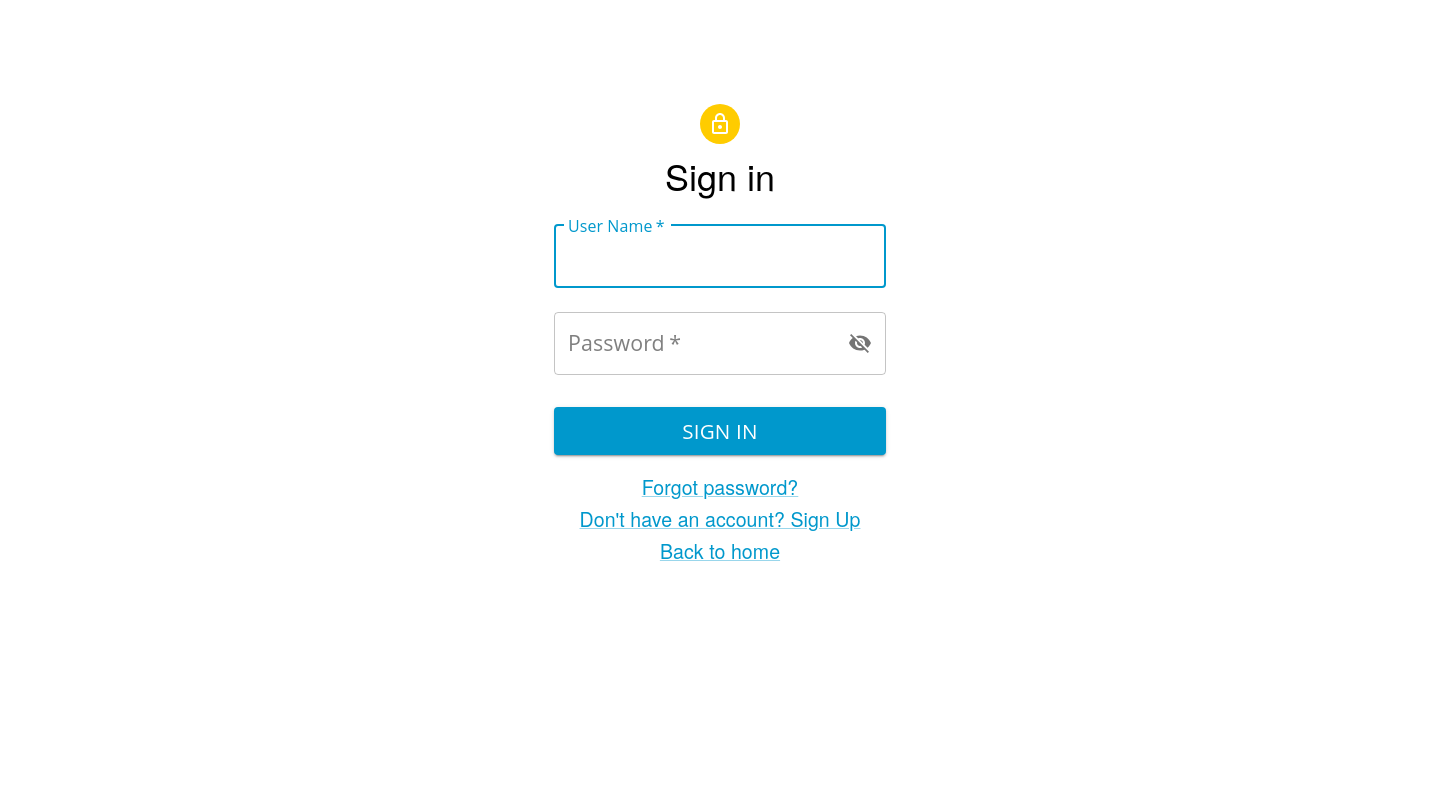
Test case: customer flow: login › logs in with valid credentials and lands on the profile edit page
Type "ada" into the field labelled "User Name *".
click(720, 256); type("ada")  # box [554,224,886,288]
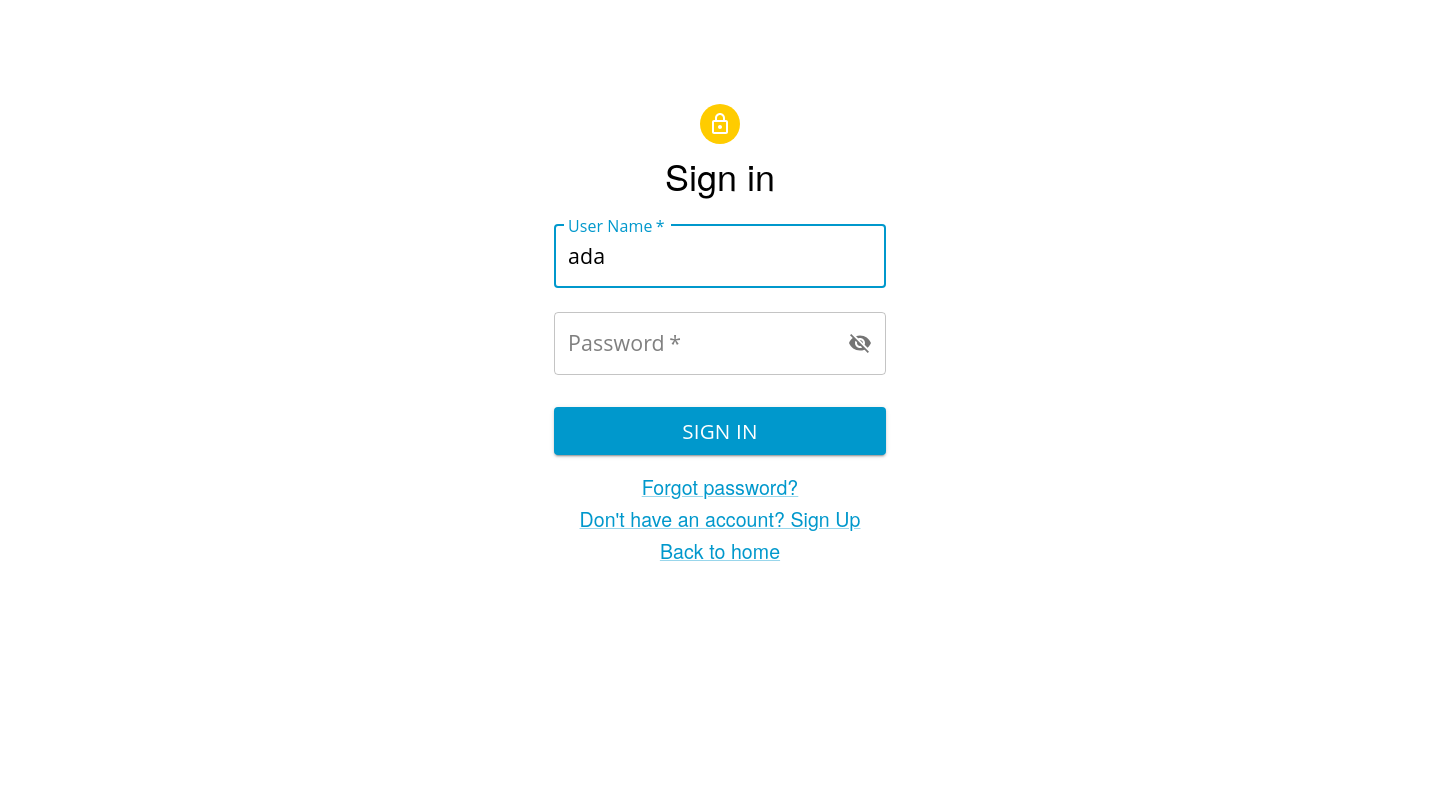
Type "password123" into the password field labelled "Password *".
click(691, 344); type("password123")  # box [554,312,828,375]
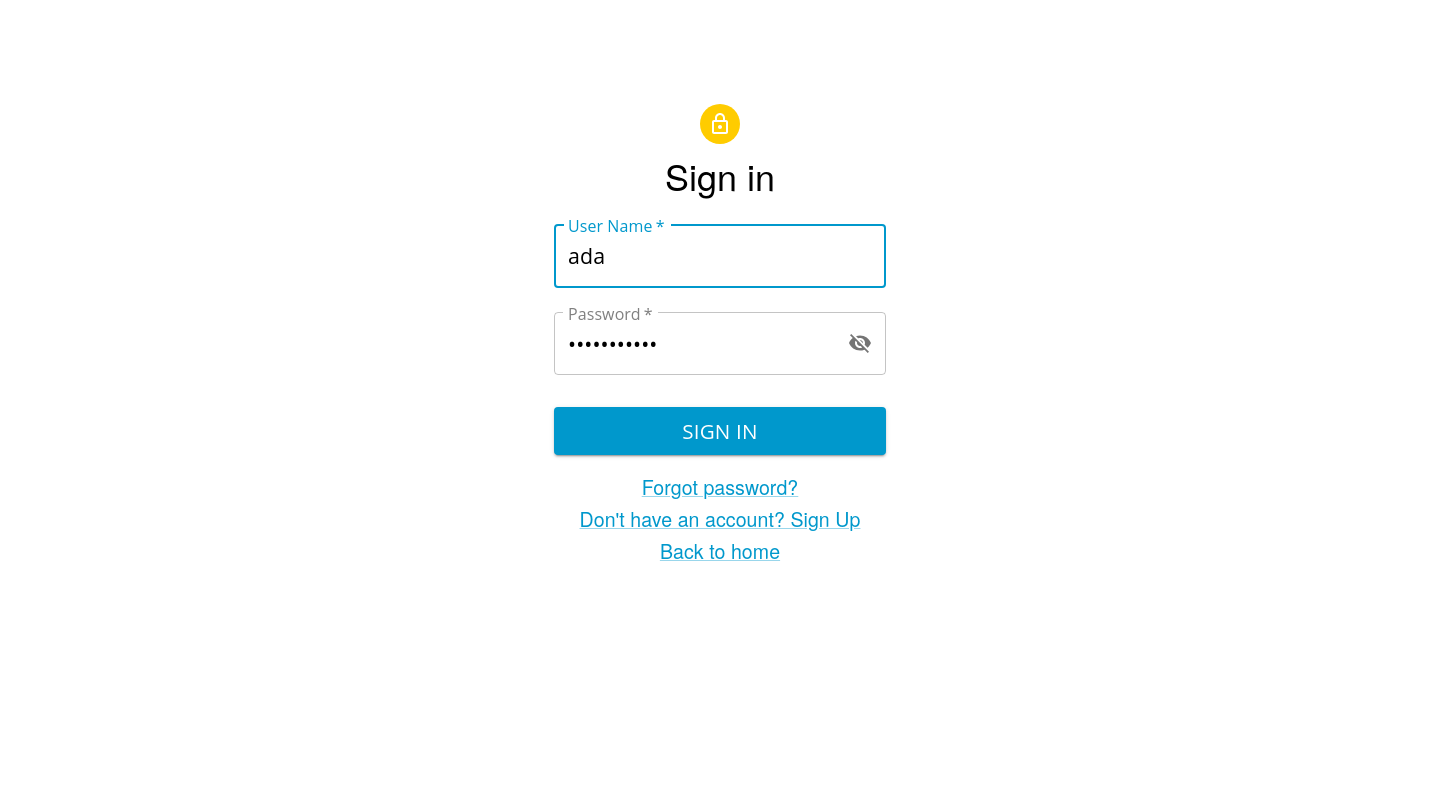
Click the button "Sign In".
click(720, 431)  # box [554,407,886,455]
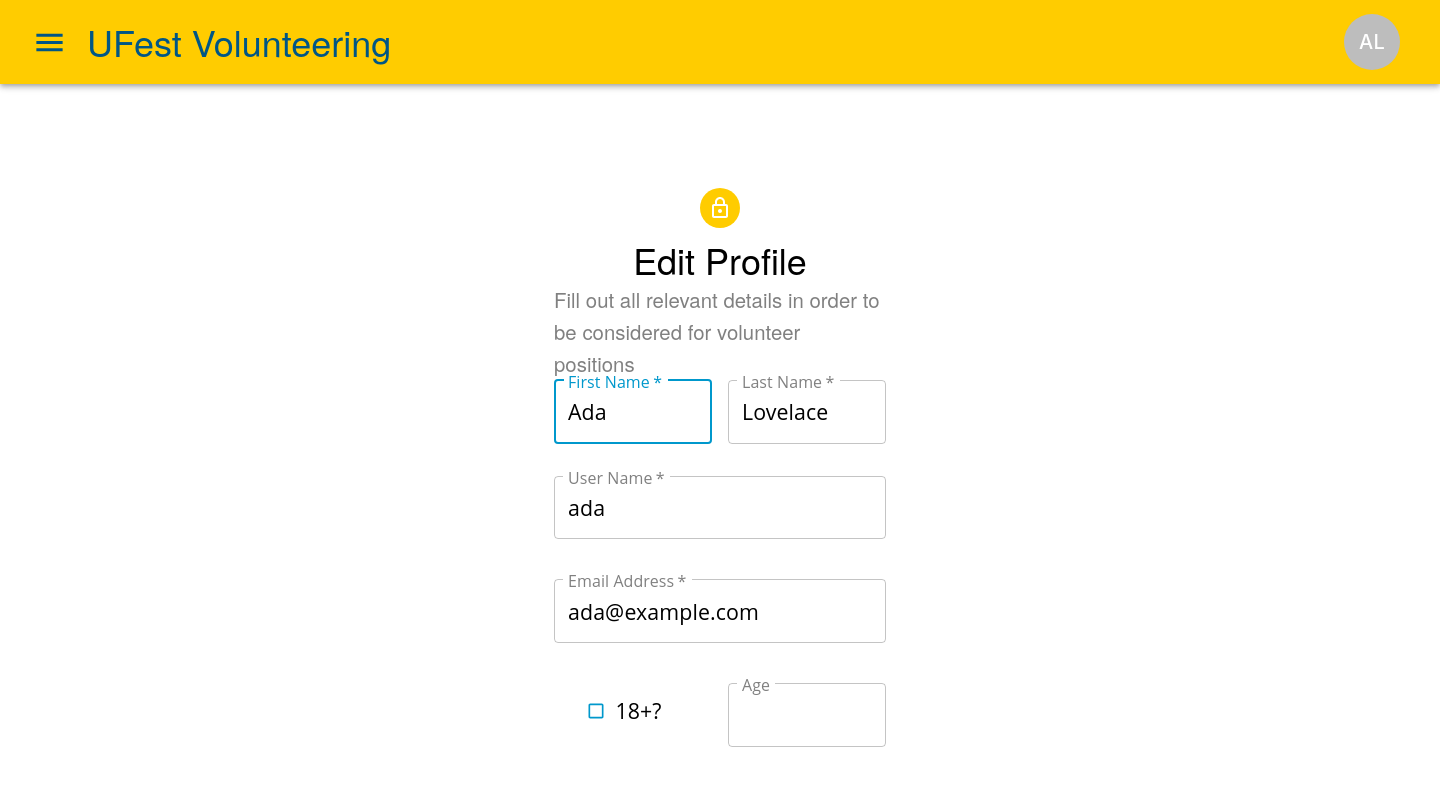
Now the heading "Edit Profile" is shown, box [633,236,807,284]
